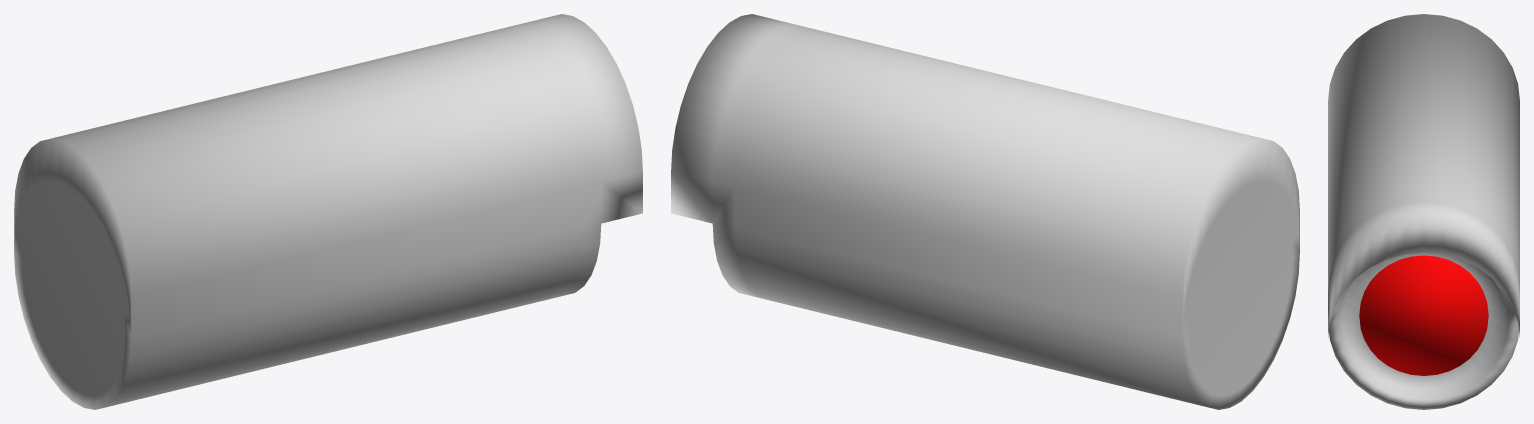
File: camera.fbx
3 renders of one model, left to right at view 1: azimuth 30°, elevation 25°; view 2: azimuth 150°, elevation 25°; view 3: azimuth 270°, elevation 25°, orthographic. The views are drawn at different scales.
Parts seen in each view (by area): view 1: Cylinder.001; view 2: Cylinder.001; view 3: Cylinder.001, Cylinder.
Boxes of the visible parts, bbox=[...] form: Cylinder.001: bbox=[14, 14, 642, 409]; Cylinder.001: bbox=[671, 14, 1299, 409]; Cylinder.001: bbox=[1328, 14, 1519, 409]; Cylinder: bbox=[1359, 255, 1488, 375].
Bounding box in the file's own units: 749 × 356 × 298.
